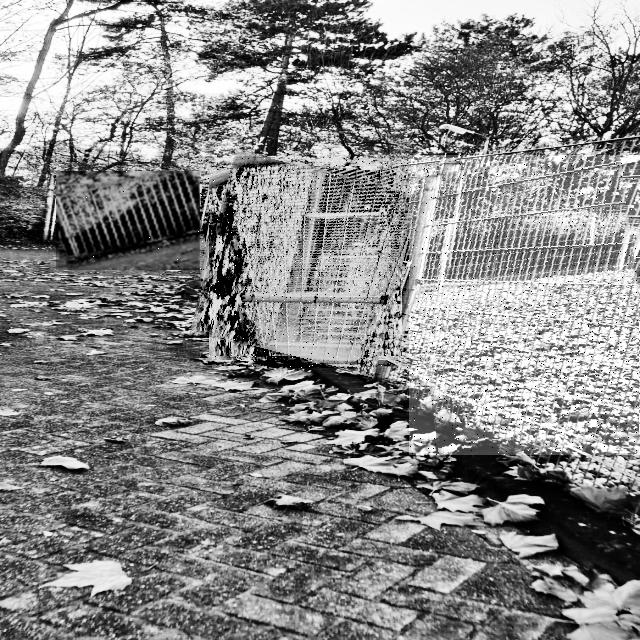fences: (409, 155, 640, 455), (200, 158, 410, 368), (56, 171, 203, 270)
